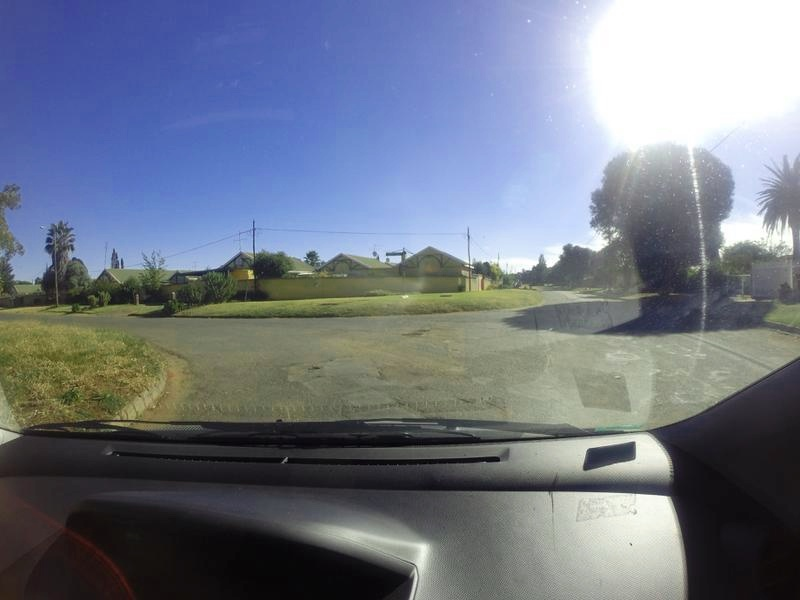pothole: (306, 358, 334, 376), (399, 327, 434, 339), (455, 389, 481, 405)
